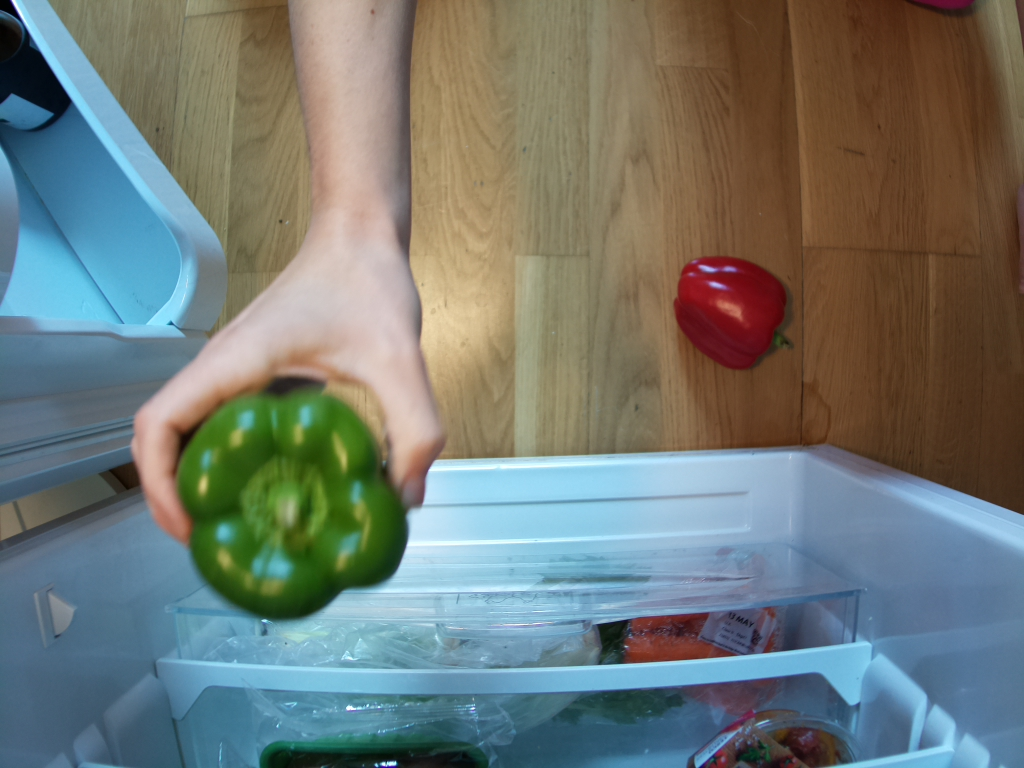pepper: (176, 383, 408, 624), (667, 256, 793, 371)
